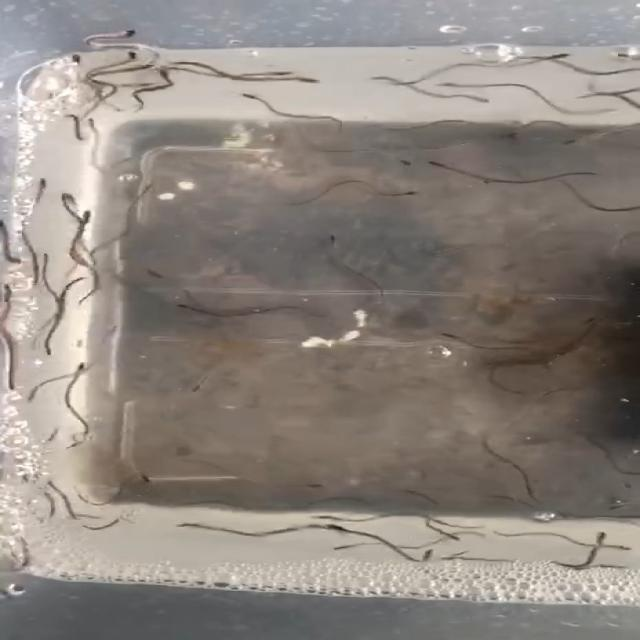inactive_glass_eel: (184, 370, 218, 393), (128, 262, 171, 278), (429, 75, 466, 91), (278, 75, 322, 88), (427, 157, 462, 173), (165, 521, 209, 533), (532, 50, 572, 63), (310, 513, 350, 526), (104, 28, 142, 41), (230, 90, 264, 104), (318, 525, 354, 538), (557, 133, 588, 148), (615, 48, 640, 65), (378, 188, 420, 198), (68, 53, 87, 75), (294, 478, 326, 491), (329, 541, 360, 554), (588, 529, 606, 551), (606, 542, 635, 555), (152, 66, 174, 82), (130, 470, 154, 484), (264, 69, 296, 79), (0, 282, 20, 298), (30, 175, 48, 192), (323, 234, 340, 252), (83, 118, 104, 132), (80, 209, 98, 225), (74, 360, 90, 378), (37, 251, 54, 267), (58, 191, 72, 210), (37, 341, 56, 355), (438, 332, 462, 343), (171, 301, 196, 311), (393, 157, 414, 167)
